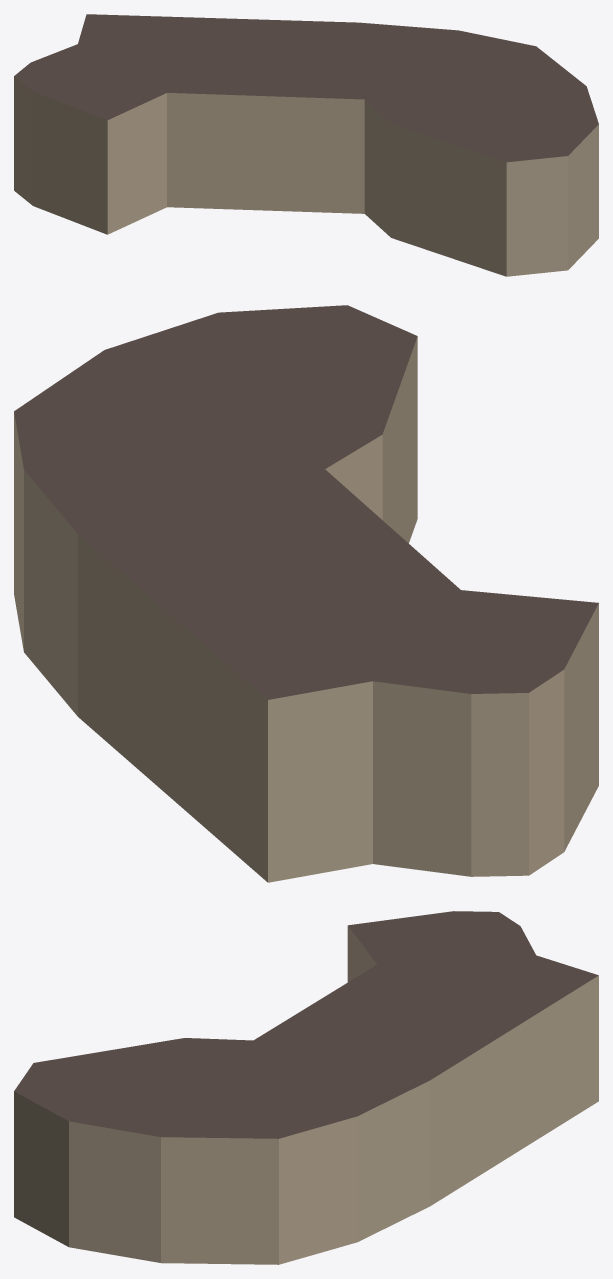
3 views of the same model, one above another, from view 1: azimuth 30°, elevation 25°; view 2: azimuth 150°, elevation 25°; view 3: azimuth 270°, elevation 25° (orthographic). The views are drawn at different scales.
Visible parts, largest first — view 1: HP-w859091102; view 2: HP-w859091102; view 3: HP-w859091102.
Part boxes in pixels (x1,y1,x2,y2): HP-w859091102: (14,14,598,276); HP-w859091102: (14,305,598,882); HP-w859091102: (14,911,598,1264).
Size of the model in its own units: 34.88 by 9 by 37.87.
